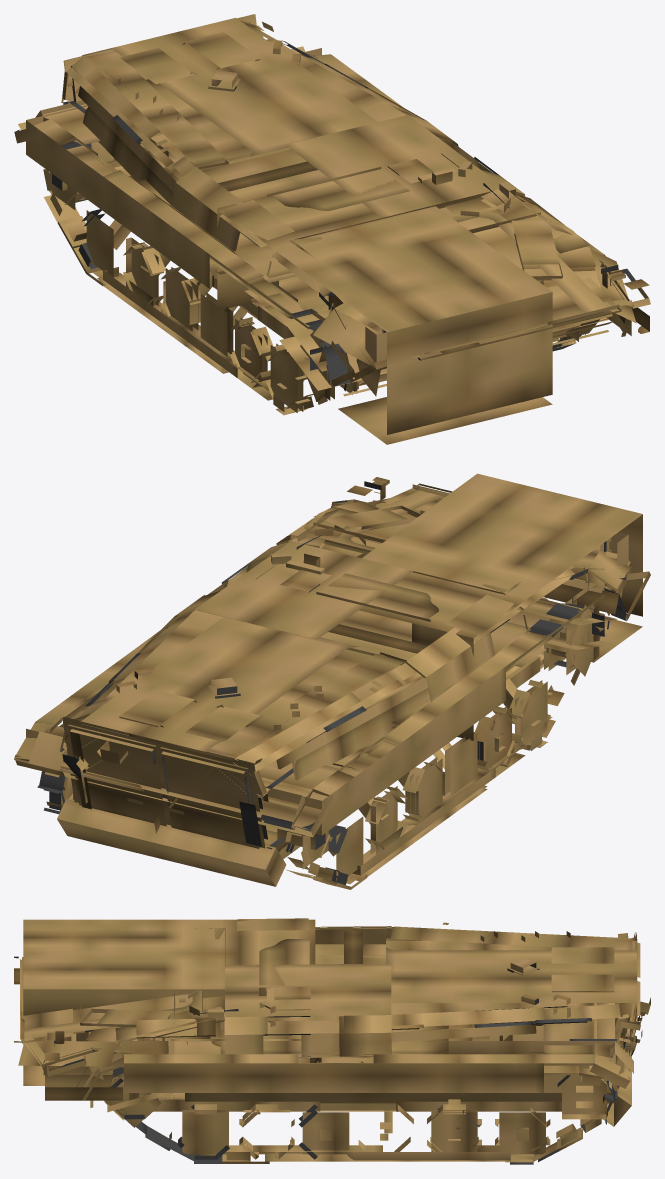
The model's file is bmp2.obj.
3 views of the same model, one above another, from view 1: azimuth 30°, elevation 25°; view 2: azimuth 150°, elevation 25°; view 3: azimuth 270°, elevation 25° (orthographic). The views are drawn at different scales.
Visible parts, largest first — view 1: body, w3, w6, w2, w5, w4, w7, w1; view 2: body, w1, w2, w3, w5, w6, w7, w4, w8; view 3: body, w10, w14, w15, w12, w16, w9, w11, w13.
Part boxes in pixels (x1=…): body: x1=14, y1=14, x2=650, y2=444; w3: x1=230, y1=317, x2=273, y2=387; w6: x1=123, y1=237, x2=165, y2=306; w2: x1=265, y1=343, x2=310, y2=413; w5: x1=160, y1=267, x2=200, y2=331; w4: x1=200, y1=292, x2=233, y2=356; w7: x1=81, y1=209, x2=113, y2=277; w1: x1=300, y1=329, x2=357, y2=400; body: x1=14, y1=473, x2=650, y2=889; w1: x1=544, y1=599, x2=604, y2=676; w2: x1=509, y1=680, x2=552, y2=750; w3: x1=473, y1=706, x2=517, y2=771; w5: x1=402, y1=757, x2=445, y2=825; w6: x1=365, y1=786, x2=407, y2=854; w7: x1=325, y1=816, x2=363, y2=881; w4: x1=445, y1=733, x2=477, y2=795; w8: x1=277, y1=828, x2=332, y2=869; body: x1=14, y1=918, x2=650, y2=1164; w10: x1=178, y1=1104, x2=229, y2=1159; w14: x1=427, y1=1104, x2=481, y2=1151; w15: x1=495, y1=1107, x2=550, y2=1159; w12: x1=299, y1=1104, x2=349, y2=1159; w16: x1=557, y1=1072, x2=611, y2=1119; w9: x1=104, y1=1066, x2=161, y2=1127; w11: x1=239, y1=1104, x2=294, y2=1159; w13: x1=358, y1=1104, x2=413, y2=1151.
Size of the model in its own units: 3.99 by 2.13 by 8.41.
